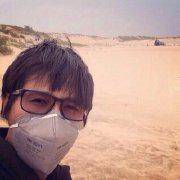OK: (7, 86, 89, 168)
